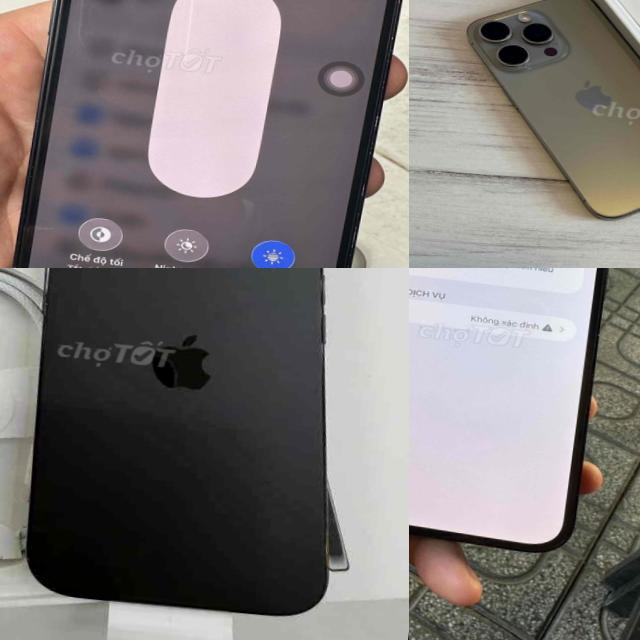gen_12_13: (2, 0, 409, 268), (437, 0, 640, 240)
gen_14: (409, 268, 632, 557)
gen_17: (0, 268, 389, 640)
